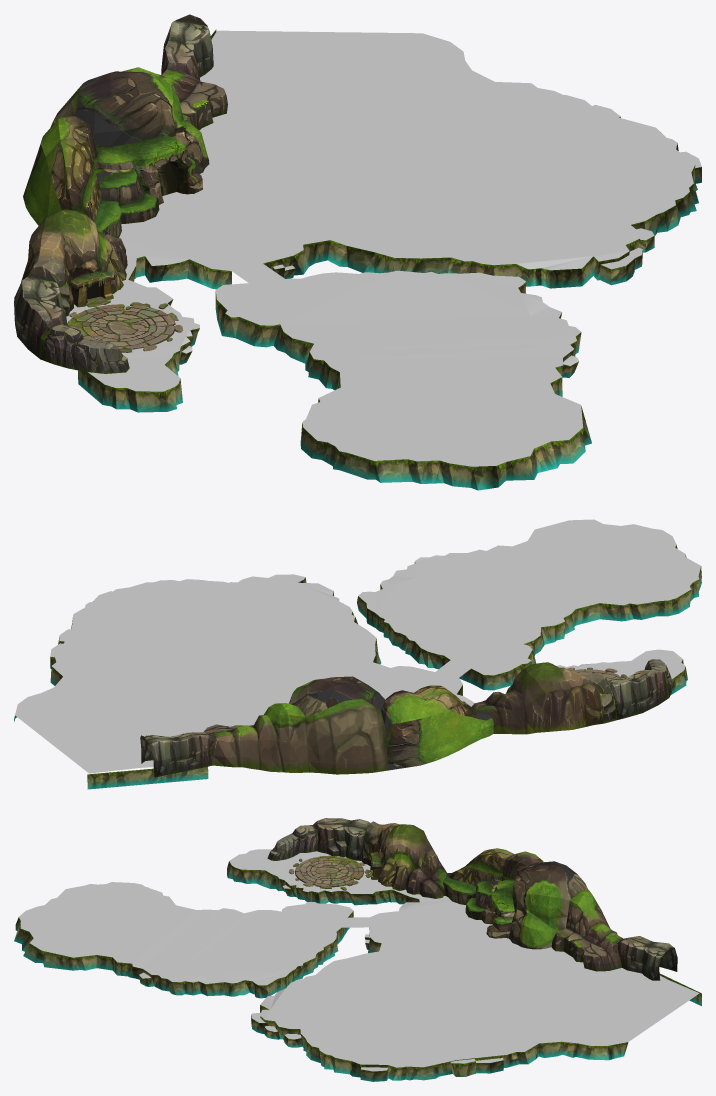
File: Dimian01.FBX
3 views of the same model, one above another, from view 1: azimuth 30°, elevation 25°; view 2: azimuth 150°, elevation 25°; view 3: azimuth 270°, elevation 25° (orthographic). The views are drawn at different scales.
Parts seen in each view (by area): view 1: dimian1, dimian1_b, Object002, Object001, dimian2_b, dimian2, Object003, changshong, Object004, houshan; view 2: dimian1, dimian1_b, Object002, Object001, dimian2_b, houshan, dimian2, Object003; view 3: dimian1, dimian1_b, Object002, Object001, dimian2, dimian2_b, Object003, Object004, changshong, houshan.
Boxes of the visible parts, x1=… form: dimian1: x1=119, y1=30, x2=701, y2=282; dimian1_b: x1=215, y1=270, x2=582, y2=466; Object002: x1=23, y1=67, x2=227, y2=237; Object001: x1=14, y1=209, x2=129, y2=373; dimian2_b: x1=215, y1=282, x2=591, y2=490; dimian2: x1=145, y1=29, x2=701, y2=289; Object003: x1=66, y1=245, x2=199, y2=391; changshong: x1=67, y1=302, x2=182, y2=352; Object004: x1=78, y1=256, x2=199, y2=412; houshan: x1=161, y1=14, x2=213, y2=80; dimian1: x1=15, y1=574, x2=474, y2=773; dimian1_b: x1=358, y1=519, x2=700, y2=675; Object002: x1=204, y1=676, x2=493, y2=774; Object001: x1=471, y1=659, x2=672, y2=734; dimian2_b: x1=357, y1=544, x2=701, y2=690; houshan: x1=140, y1=732, x2=215, y2=777; dimian2: x1=14, y1=577, x2=462, y2=789; Object003: x1=557, y1=649, x2=685, y2=678; dimian1: x1=252, y1=900, x2=699, y2=1071; dimian1_b: x1=19, y1=882, x2=353, y2=985; Object002: x1=442, y1=848, x2=623, y2=971; Object001: x1=267, y1=818, x2=447, y2=898; dimian2: x1=251, y1=927, x2=701, y2=1081; dimian2_b: x1=14, y1=911, x2=353, y2=998; Object003: x1=229, y1=849, x2=450, y2=902; Object004: x1=227, y1=861, x2=419, y2=905; changshong: x1=289, y1=855, x2=365, y2=890; houshan: x1=617, y1=936, x2=677, y2=980.
Size of the model in its own units: 1066 by 157 by 1367.
